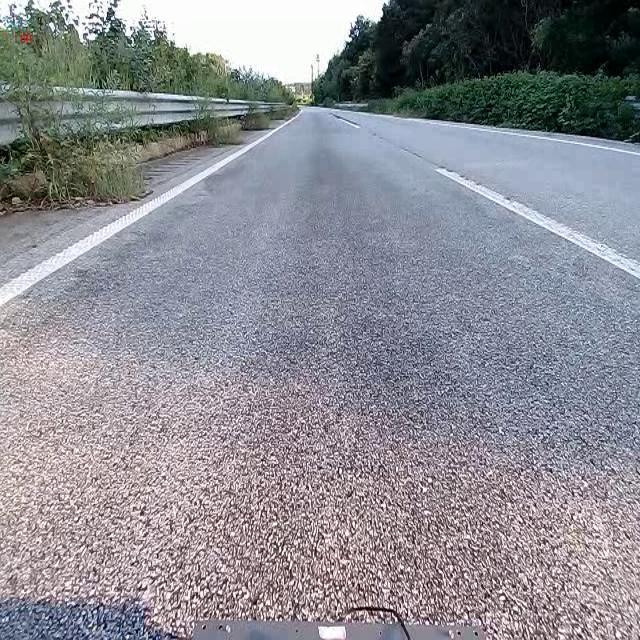Lane: (0, 102, 307, 312), (0, 118, 294, 309), (328, 103, 640, 282), (435, 168, 639, 279), (412, 120, 639, 156), (331, 113, 360, 127)
